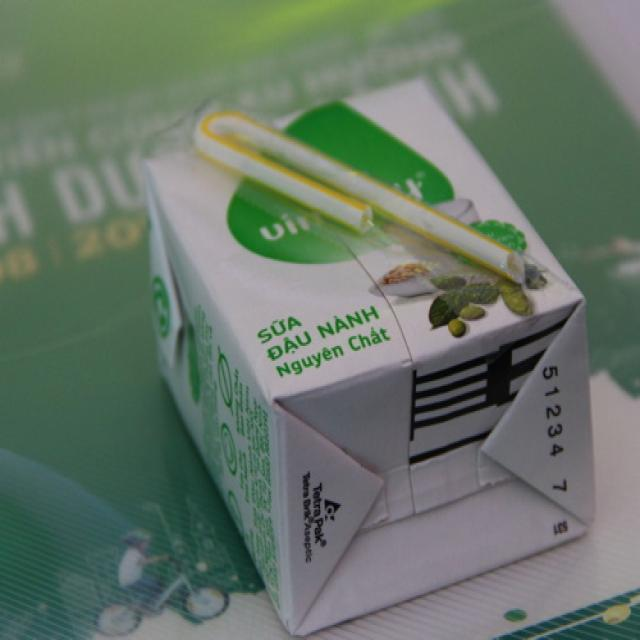cardboard: (138, 78, 618, 635)
